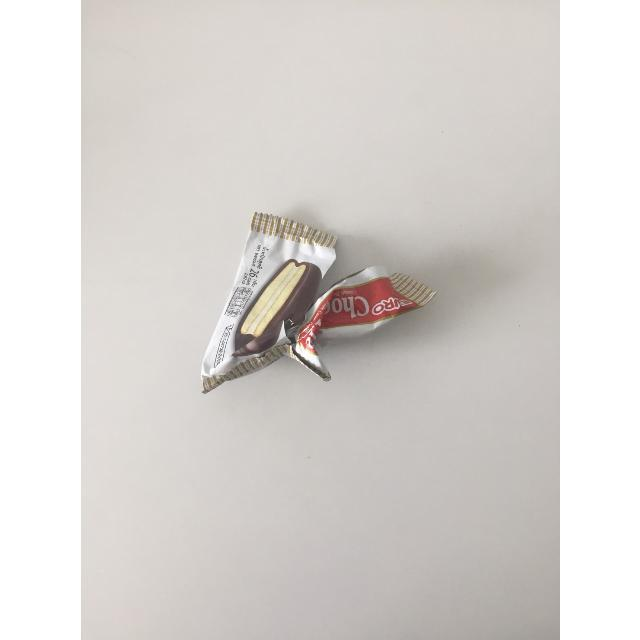Paquete de plastico: (202, 212, 435, 392)
